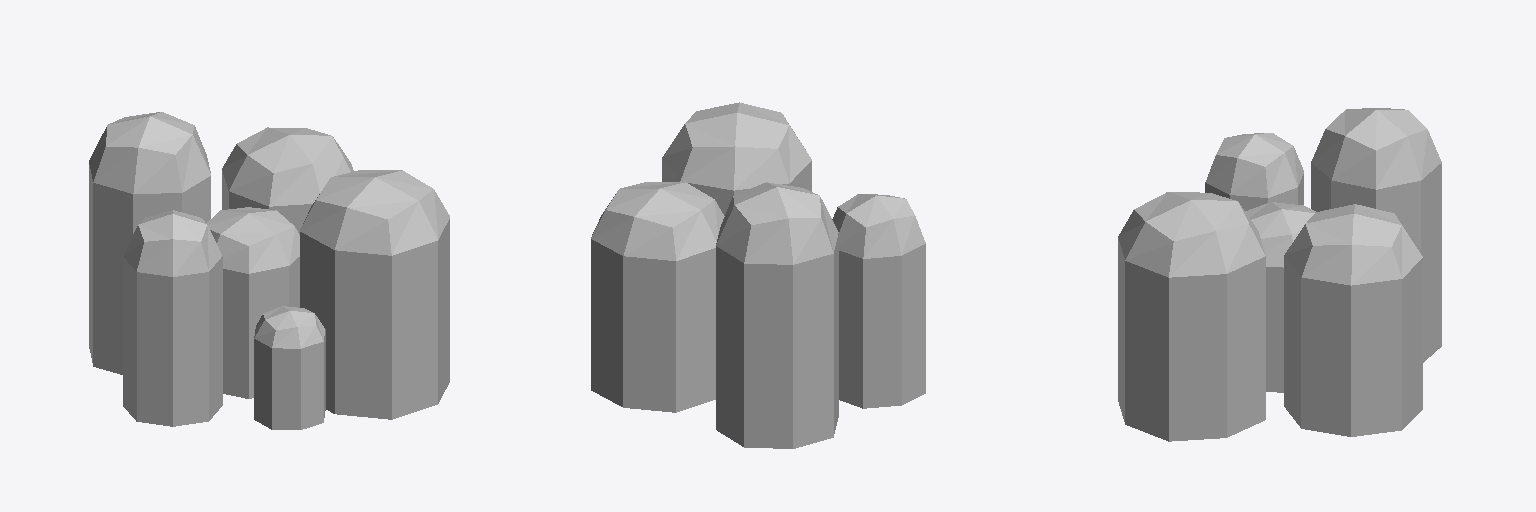
File: RockS_3.obj
The picture shows the model from 3 angles: view 1: azimuth 30°, elevation 25°; view 2: azimuth 150°, elevation 25°; view 3: azimuth 270°, elevation 25°; orthographic projection.
Visible parts, largest first — view 1: Rock_4; view 2: Rock_4; view 3: Rock_4.
Part boxes in pixels (x1,y1,x2,y2): Rock_4: (89, 112, 449, 429); Rock_4: (591, 102, 925, 448); Rock_4: (1118, 108, 1441, 441).
Size of the model in its own units: 1.09 by 0.8874 by 1.1.